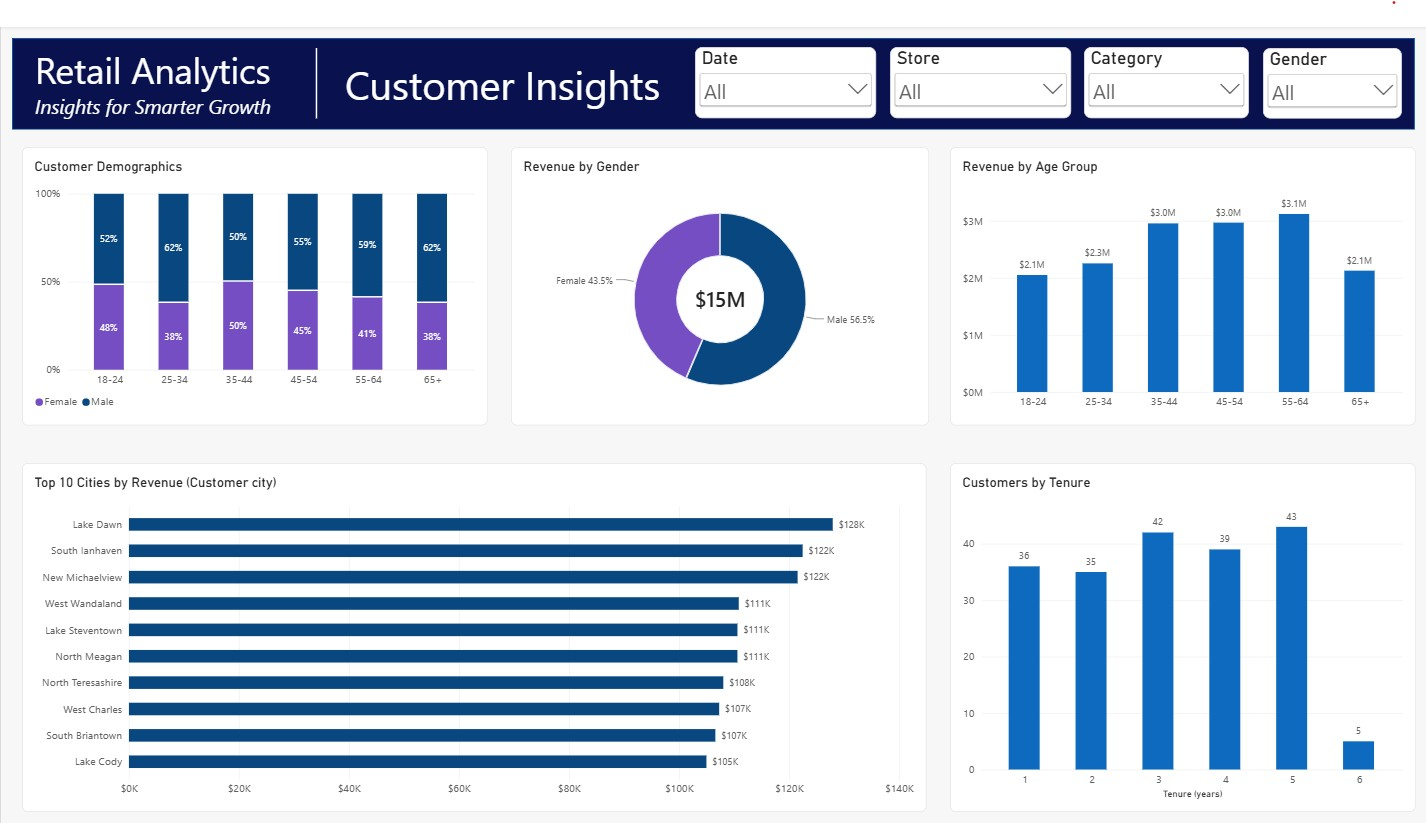

The page's visual inventory and layout, read from the dashboard file:
{"tool":"powerbi","page":{"name":"Customer Insights","canvas":[1920,1080],"ordinal":3},"visuals":[{"type":"shape","box":[15.4,17.6,1888.9,123.4],"z":0},{"type":"textbox","box":[46.3,26.4,348.2,114.6],"z":1000},{"type":"textbox","box":[463.6,42.8,448.5,83.1],"z":2000},{"type":"shape","box":[385.7,30.9,79.3,94.8],"z":3000},{"type":"slicer","fields":{"Values":["dim_customers.Gender"]},"box":[1699.3,30.9,187.3,94.8],"z":4000},{"type":"slicer","fields":{"Values":["dim_products.Category"]},"box":[1458.9,30.2,221.7,95.7],"z":5000},{"type":"slicer","fields":{"Values":["dim_stores.City"]},"box":[1196.9,30.2,244.4,95.7],"z":6000},{"type":"slicer","fields":{"Values":["dim_date.Year","dim_date.Quarter","dim_date.MonthName"]},"box":[934.8,30.2,244.4,95.7],"z":7000},{"type":"hundredPercentStackedColumnChart","title":"Customer Demographics","fields":{"Category":["dim_customers.AgeRange"],"Series":["dim_customers.Gender"],"Y":["fact_sales.Customers"]},"box":[27.7,164.9,627.4,375],"z":8000},{"type":"clusteredColumnChart","title":"Revenue by Age Group","fields":{"Category":["dim_customers.AgeRange"],"Y":["fact_sales.Total Revenue"]},"box":[1278.1,164.9,627.4,375],"z":9000},{"type":"donutChart","title":"Revenue by Gender","fields":{"Category":["dim_customers.Gender"],"Y":["fact_sales.Total Revenue"]},"box":[687.2,164.9,563.2,375],"z":10000},{"type":"clusteredColumnChart","title":"Customers by Tenure","fields":{"Category":["dim_customers.Tenure"],"Y":["fact_sales.Customers"]},"box":[1278.1,589.4,627.4,469.8],"z":11000},{"type":"clusteredBarChart","title":"Top 10 Cities by Revenue (Customer city)","fields":{"Category":["dim_customers.City"],"Y":["fact_sales.Total Revenue"]},"box":[27.7,589.4,1218.2,469.8],"z":12000}]}

Visuals, with their boxes in screenshot pixels (x1, y1, x2, y2), scaled from the page's 1920x1080 canvas onto the 1426x823 screenshot:
shape: left=11, top=13, right=1414, bottom=107
textbox: left=34, top=20, right=293, bottom=107
textbox: left=344, top=33, right=677, bottom=96
shape: left=286, top=24, right=345, bottom=96
slicer - dim_customers.Gender: left=1262, top=24, right=1401, bottom=96
slicer - dim_products.Category: left=1084, top=23, right=1248, bottom=96
slicer - dim_stores.City: left=889, top=23, right=1070, bottom=96
slicer - dim_date.Year x dim_date.Quarter: left=694, top=23, right=876, bottom=96
"Customer Demographics" hundredPercentStackedColumnChart: left=21, top=126, right=487, bottom=411
"Revenue by Age Group" clusteredColumnChart: left=949, top=126, right=1415, bottom=411
"Revenue by Gender" donutChart: left=510, top=126, right=929, bottom=411
"Customers by Tenure" clusteredColumnChart: left=949, top=449, right=1415, bottom=807
"Top 10 Cities by Revenue (Customer city)" clusteredBarChart: left=21, top=449, right=925, bottom=807
